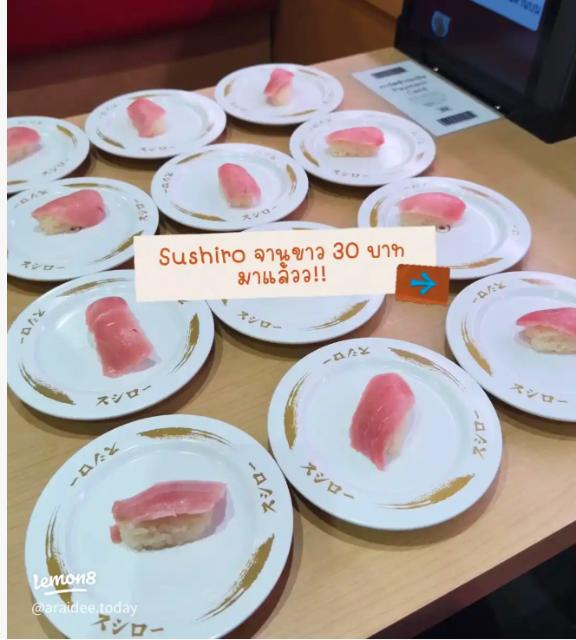janwhite: (47, 429, 268, 640), (280, 352, 518, 528), (468, 272, 576, 457), (443, 171, 542, 271), (15, 298, 92, 417), (0, 210, 146, 266), (219, 66, 348, 123), (91, 102, 231, 152), (297, 130, 430, 181), (216, 301, 407, 335), (0, 109, 84, 177), (156, 160, 232, 222)
